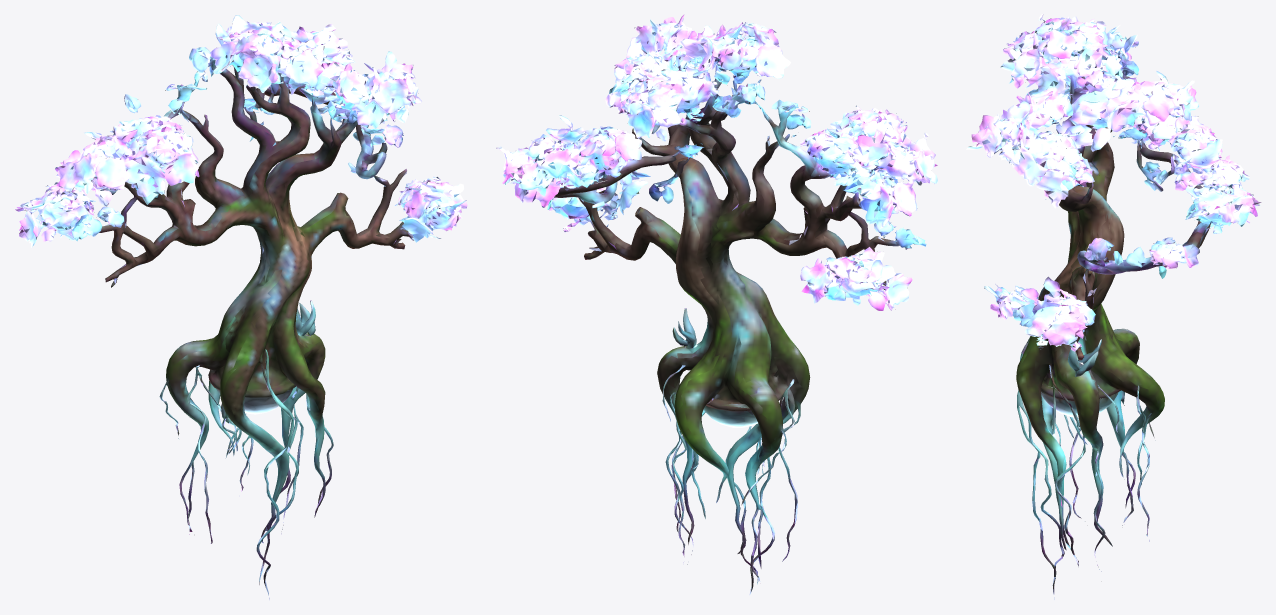
Rendered from Celestial_Blossom_Tre.fbx.
The picture shows the model from 3 angles, left to right: view 1: azimuth 30°, elevation 25°; view 2: azimuth 150°, elevation 25°; view 3: azimuth 270°, elevation 25°; orthographic projection. The views are drawn at different scales.
Parts seen in each view (by area): view 1: Celestial_Blossom_Tre_LOD0; view 2: Celestial_Blossom_Tre_LOD0; view 3: Celestial_Blossom_Tre_LOD0.
Part boxes in pixels (left/top/right/bottom): Celestial_Blossom_Tre_LOD0: left=15, top=15, right=467, bottom=599; Celestial_Blossom_Tre_LOD0: left=496, top=14, right=937, bottom=594; Celestial_Blossom_Tre_LOD0: left=966, top=14, right=1261, bottom=599.
Size of what is drawn, in the model's own units: 1.37 by 1.89 by 0.8779.
Materials: 1 (1 with a texture image).
